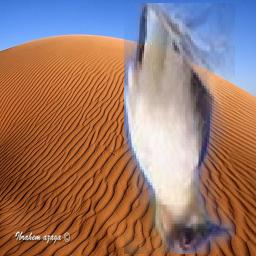Cuckoo: (125, 4, 236, 255)
